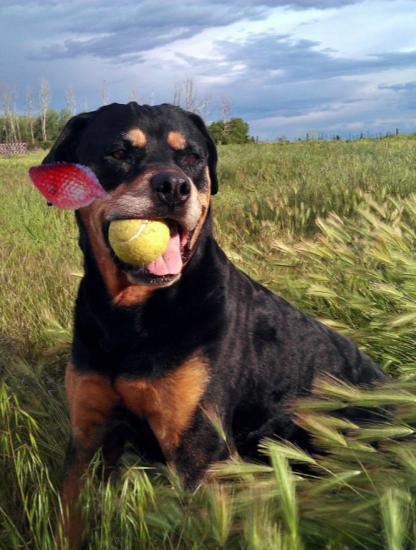Salak: (25, 142, 114, 231)
